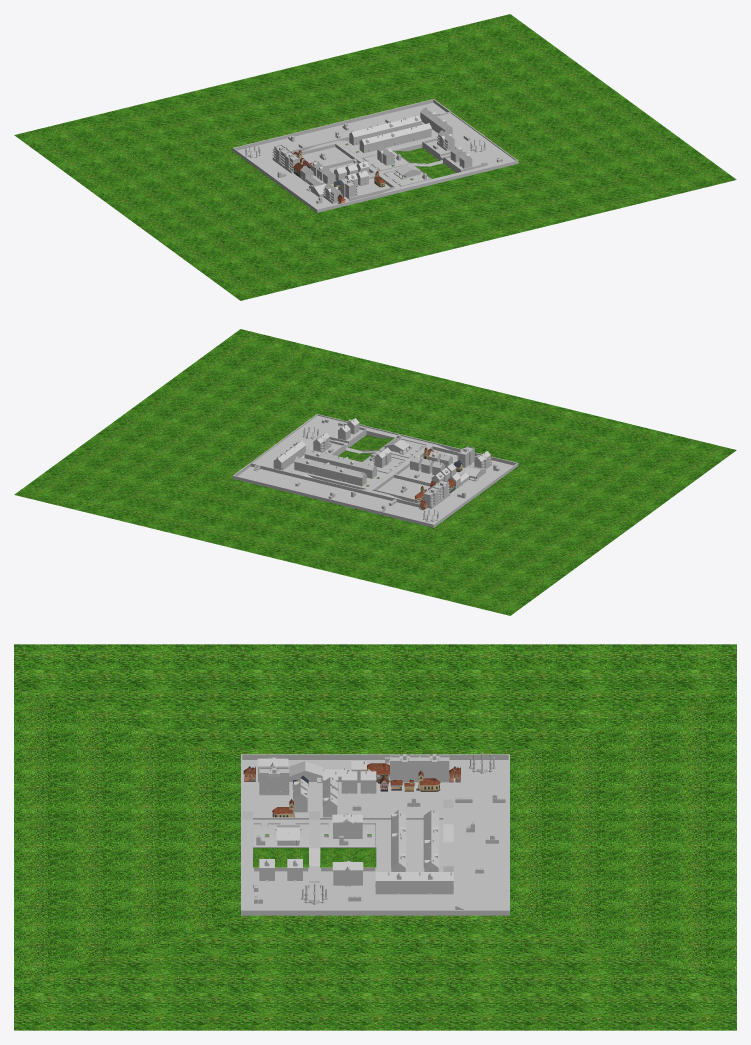
The model's file is Street_Shooting_Env.fbx.
The picture shows the model from 3 angles, top to bottom: view 1: azimuth 30°, elevation 25°; view 2: azimuth 150°, elevation 25°; view 3: azimuth 270°, elevation 25°; orthographic projection. The views are drawn at different scales.
Parts seen in each view (by area): view 1: Grass_Patch, Ground_Patch_02, Boundry_Wall, Ground_Patch_04, Ground_Patch_01; view 2: Grass_Patch, Ground_Patch_02, Boundry_Wall, Ground_Patch_04, Ground_Patch_01, Wall_02; view 3: Grass_Patch, Ground_Patch_02, Ground_Patch_04, Boundry_Wall, Ground_Patch_01, Ground_Patch_03, Building_010, Building_09, Building_08, Building_06, Building_011, Street_020.
Boxes of the visible parts, <box> form: Grass_Patch: <box>14,14,736,300</box>; Ground_Patch_02: <box>237,102,446,208</box>; Boundry_Wall: <box>232,99,518,212</box>; Ground_Patch_04: <box>423,113,515,171</box>; Ground_Patch_01: <box>364,144,456,185</box>; Grass_Patch: <box>14,329,736,615</box>; Ground_Patch_02: <box>238,449,513,523</box>; Boundry_Wall: <box>232,414,518,527</box>; Ground_Patch_04: <box>253,415,366,468</box>; Ground_Patch_01: <box>331,431,424,472</box>; Wall_02: <box>250,463,420,507</box>; Grass_Patch: <box>14,644,736,1030</box>; Ground_Patch_02: <box>242,760,508,909</box>; Ground_Patch_04: <box>242,871,453,909</box>; Boundry_Wall: <box>241,754,509,915</box>; Ground_Patch_01: <box>253,824,376,867</box>; Ground_Patch_03: <box>387,824,443,871</box>; Building_010: <box>259,766,289,795</box>; Building_09: <box>390,754,419,782</box>; Building_08: <box>419,754,449,782</box>; Building_06: <box>332,860,363,886</box>; Building_011: <box>332,813,362,838</box>; Street_020: <box>242,824,252,883</box>.
Size of the model in its own units: 528 by 17.83 by 417.
